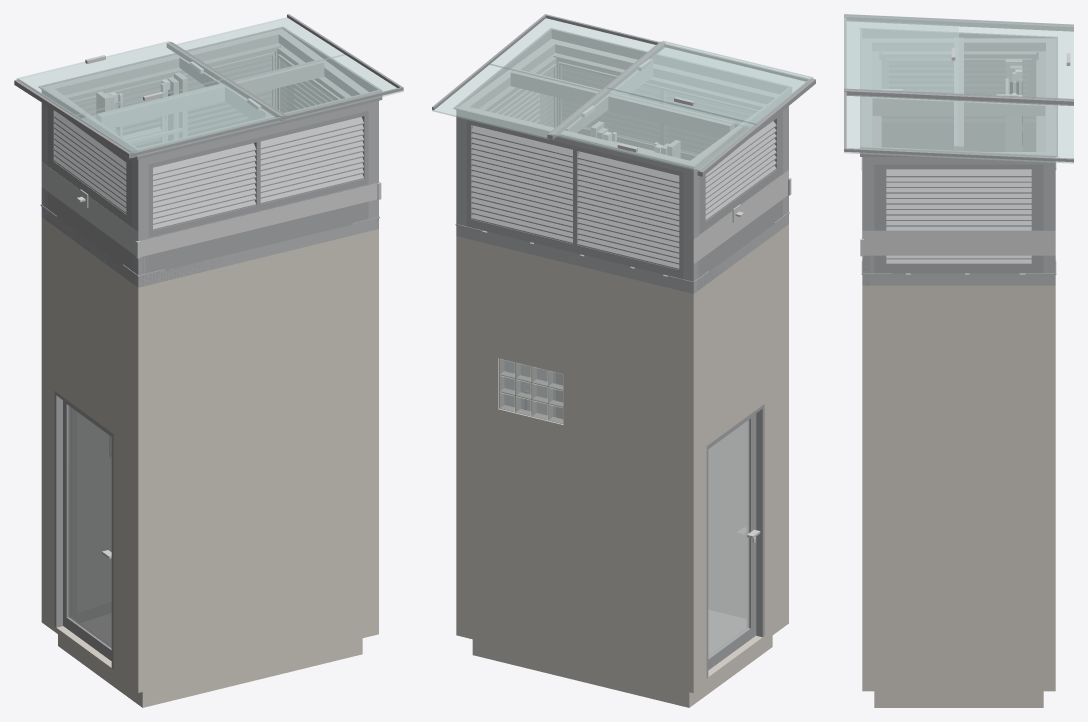
File: thap_lam.glb
3 views of the same model, side by side, from view 1: azimuth 30°, elevation 25°; view 2: azimuth 150°, elevation 25°; view 3: azimuth 270°, elevation 25° (orthographic).
Visible parts, largest first — view 1: Tường giếng Tây Bắc, Tường giếng Đông Bắc — đoạn trước ô cửa, Cánh cửa vào giếng — kính dán tán quang 10.76 (vẽ ở vị trí đ, Cánh kính trượt ra mái (vẽ ở vị trí mở), Cánh kính trượt ra mái (vẽ ở vị trí đóng), Tường giếng Đông Bắc — trên lanh tô, Gờ giếng hiện có Tây Bắc, Dầm BTCT đỉnh giếng Tây Bắc (trục 2), Mũ kính ô toàn tháp 1.1, Lam hàng ngoài Tây Bắc ô 2, Lam hàng ngoài Tây Bắc ô 1, Mũ kính ô toàn tháp 2.2 (+37 smaller); view 2: Tường giếng Đông Nam (sau) — trái ô gạch kính, Tường giếng Đông Nam (sau) — dưới ô gạch kính, Lam hàng ngoài Đông Nam ô 2, Lam hàng ngoài Đông Nam ô 1, Cánh kính trượt ra mái (vẽ ở vị trí đóng), Cánh kính trượt ra mái (vẽ ở vị trí mở), Tường giếng Đông Bắc — đoạn sau ô cửa, Cánh cửa vào giếng — kính dán tán quang 10.76 (vẽ ở vị trí đ, Mũ kính ô toàn tháp 1.1, Tường giếng Đông Bắc — trên lanh tô, Gờ giếng hiện có Đông Nam, Dầm BTCT đỉnh giếng Đông Nam (sau) (+46 smaller); view 3: Tường giếng Tây Nam (tường biên), Lam hàng ngoài Tây Nam, Cánh kính trượt ra mái (vẽ ở vị trí đóng), Cánh kính trượt ra mái (vẽ ở vị trí mở), Mũ kính ô toàn tháp 1.1, Mũ kính ô toàn tháp 2.2, Mũ kính ô toàn tháp 2.1, Gờ giếng hiện có Tây Nam, Tôn diềm chân gờ — cạnh đứng Tây Nam, Tấm đặc chân lam Đông Bắc, Sàn đáy giếng (sàn tầng 2, chống thấm lật tường 150), Thanh chia ô mũ (dọc) (×2) (+30 smaller).
Boxes of the visible parts, x1,y1,x2,y2 form: Tường giếng Tây Bắc: (148,297,368,690); Tường giếng Đông Bắc — đoạn trước ô cửa: (122,309,148,692); Cánh cửa vào giếng — kính dán tán quang 10.76 (vẽ ở vị trí đ: (68,405,111,648); Cánh kính trượt ra mái (vẽ ở vị trí mở): (74,78,283,152); Cánh kính trượt ra mái (vẽ ở vị trí đóng): (17,41,226,115); Tường giếng Đông Bắc — trên lanh tô: (54,260,122,423); Gờ giếng hiện có Tây Bắc: (132,231,368,320); Dầm BTCT đỉnh giếng Tây Bắc (trục 2): (148,264,368,350); Mũ kính ô toàn tháp 1.1: (81,84,283,157); Lam hàng ngoài Tây Bắc ô 2: (260,117,363,203); Lam hàng ngoài Tây Bắc ô 1: (153,143,256,230); Mũ kính ô toàn tháp 2.2: (176,17,344,81); Tường giếng Đông Nam (sau) — trái ô gạch kính: (579,331,683,690); Tường giếng Đông Nam (sau) — dưới ô gạch kính: (498,408,563,661); Lam hàng ngoài Đông Nam ô 2: (577,151,679,269); Lam hàng ngoài Đông Nam ô 1: (471,125,572,243); Cánh kính trượt ra mái (vẽ ở vị trí đóng): (550,87,756,171); Cánh kính trượt ra mái (vẽ ở vị trí mở): (607,40,813,124); Tường giếng Đông Bắc — đoạn sau ô cửa: (683,317,706,693); Cánh cửa vào giếng — kính dán tán quang 10.76 (vẽ ở vị trí đ: (708,420,749,657); Mũ kính ô toàn tháp 1.1: (609,47,804,127); Tường giếng Đông Bắc — trên lanh tô: (706,268,773,429); Gờ giếng hiện có Đông Nam: (456,236,683,323); Dầm BTCT đỉnh giếng Đông Nam (sau): (466,271,683,355); Tường giếng Tây Nam (tường biên): (862,318,1055,691); Lam hàng ngoài Tây Nam: (886,169,1031,264); Cánh kính trượt ra mái (vẽ ở vị trí đóng): (959,19,1073,99); Cánh kính trượt ra mái (vẽ ở vị trí mở): (844,14,958,94); Mũ kính ô toàn tháp 1.1: (847,21,958,93); Mũ kính ô toàn tháp 2.2: (959,100,1073,163); Mũ kính ô toàn tháp 2.1: (844,95,958,158); Gờ giếng hiện có Tây Nam: (862,285,1043,318); Tôn diềm chân gờ — cạnh đứng Tây Nam: (862,230,1055,255); Tấm đặc chân lam Đông Bắc: (881,122,1036,151); Sàn đáy giếng (sàn tầng 2, chống thấm lật tường 150): (874,691,1043,707); Thanh chia ô mũ (dọc) (×2): (872,97,1045,115).
Size of the model in its own units: 2.62 by 5.24 by 1.9.
